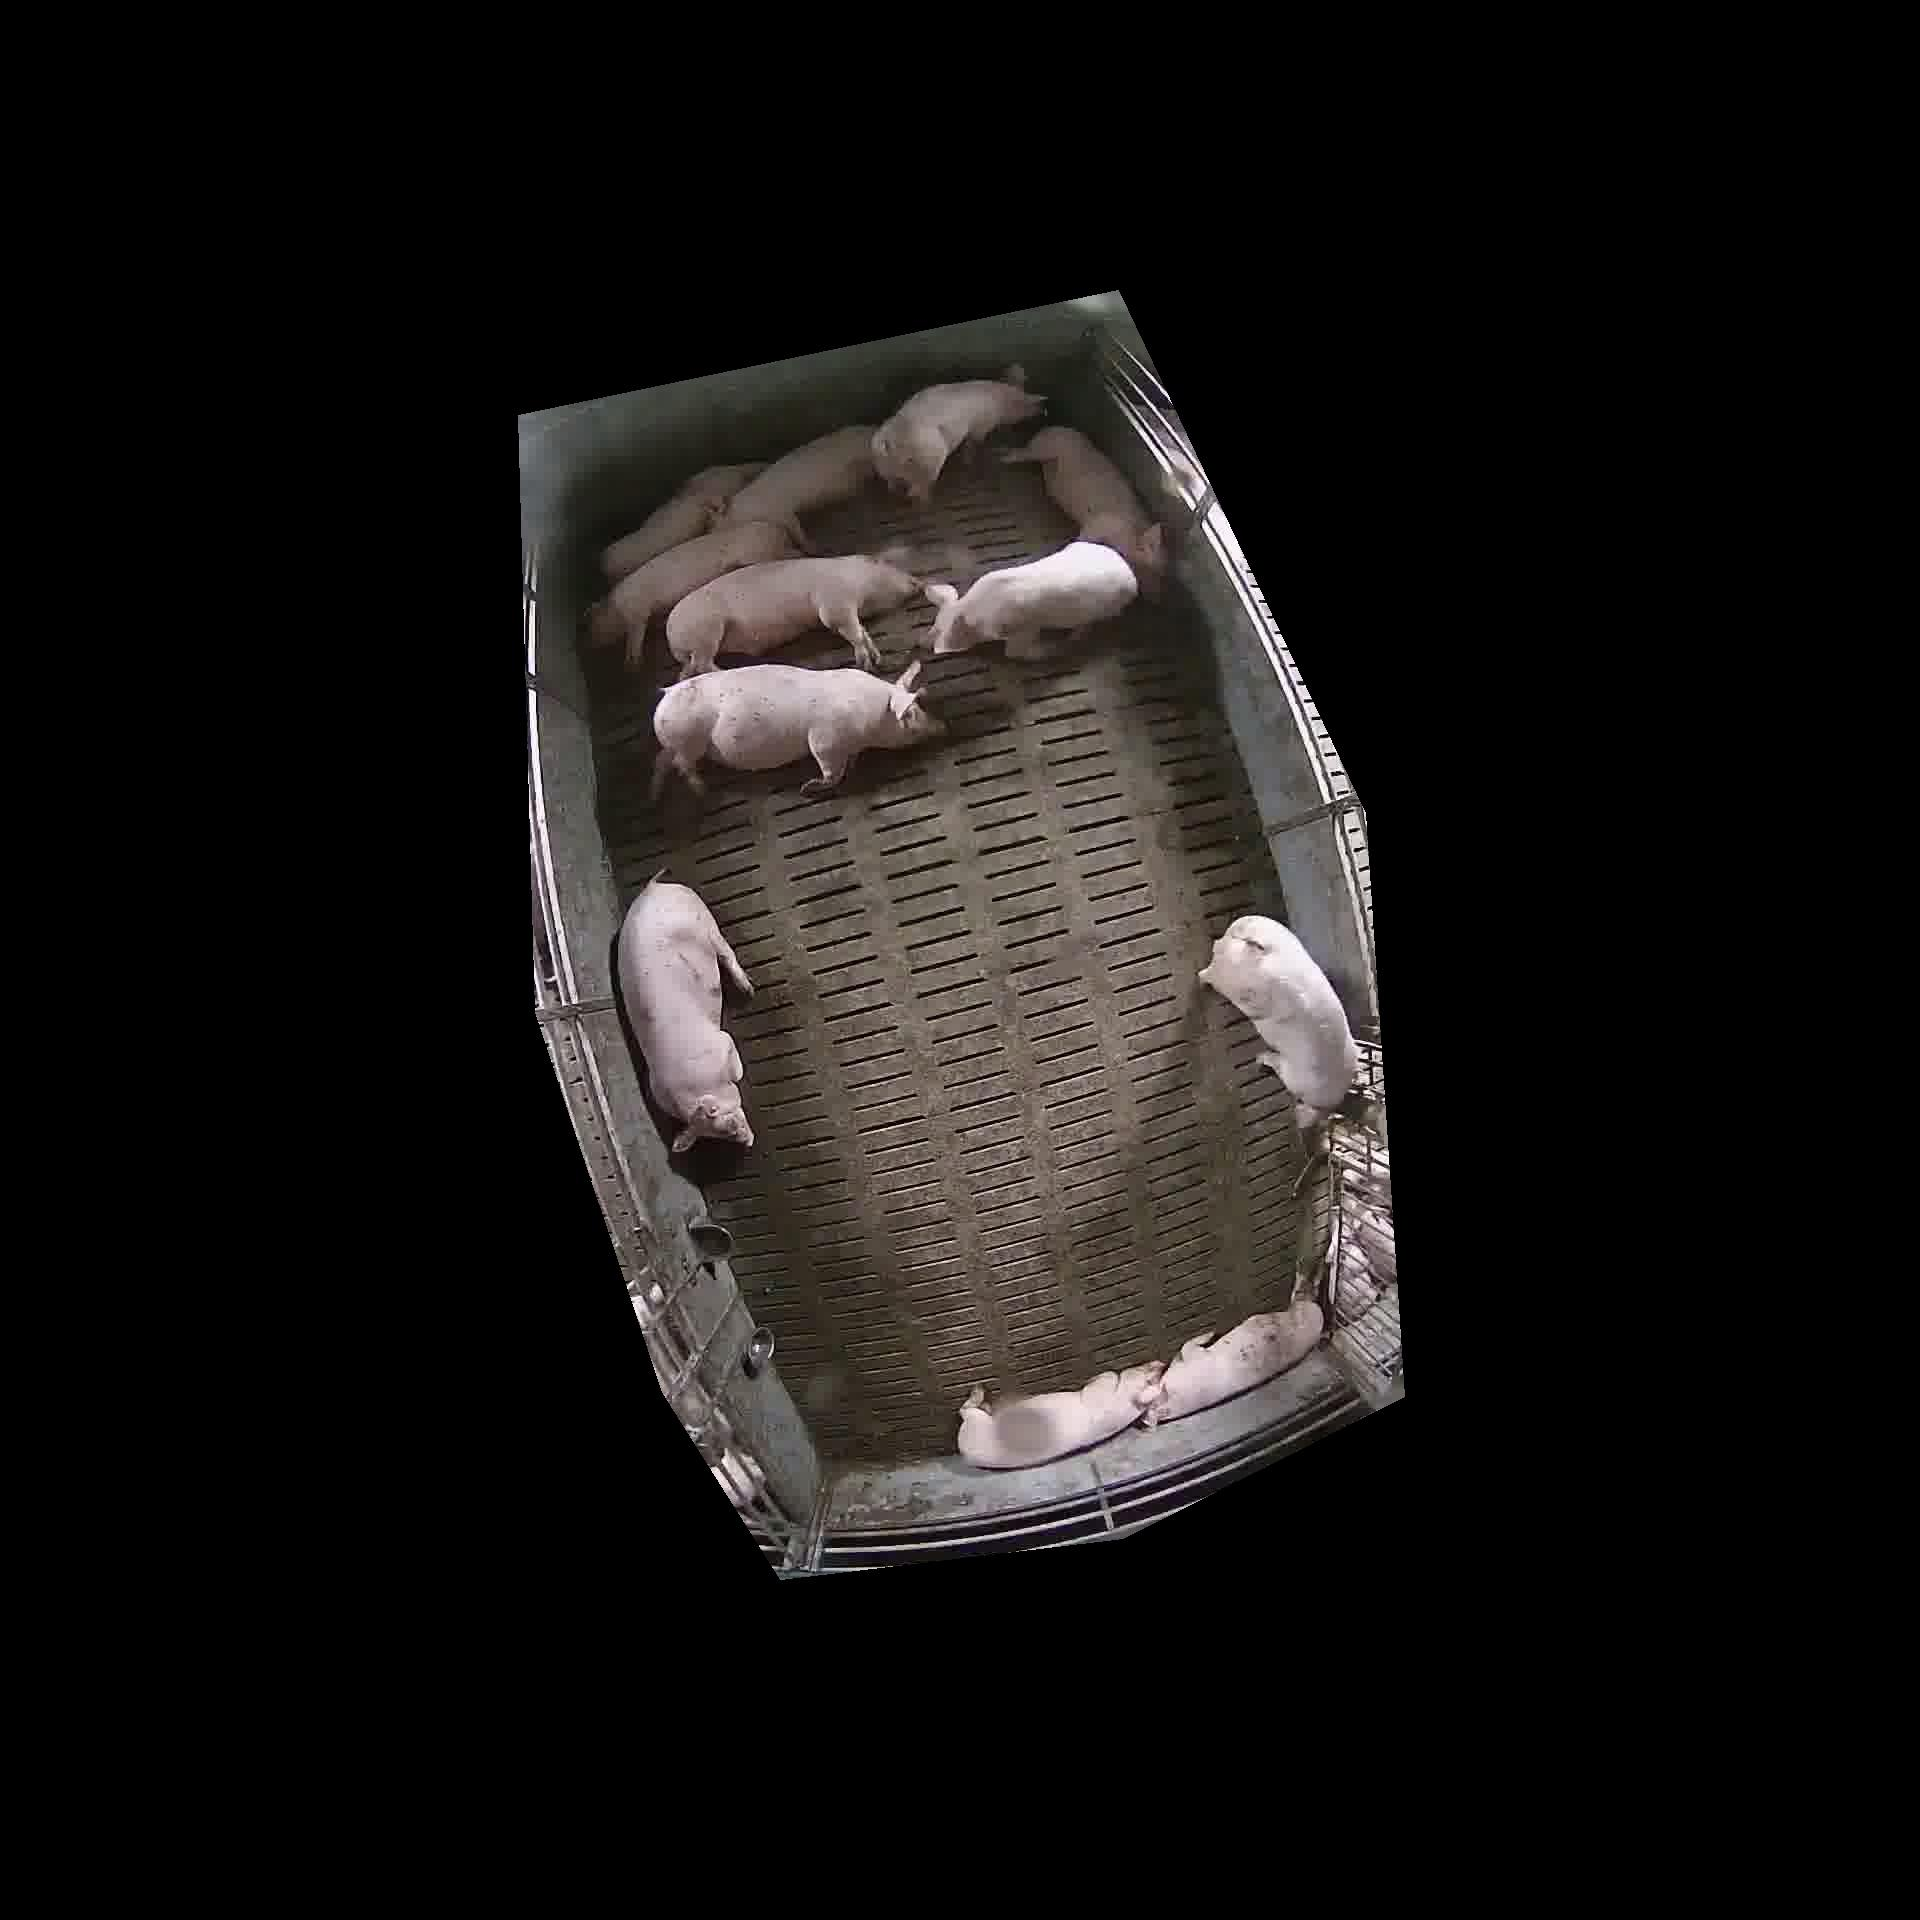pig: (652, 663, 942, 796), (617, 877, 753, 1152), (1199, 914, 1356, 1127), (666, 556, 921, 677), (589, 520, 796, 665), (1004, 425, 1167, 598), (925, 542, 1136, 658), (870, 366, 1044, 506), (956, 1361, 1162, 1468), (1146, 1299, 1322, 1424), (600, 462, 765, 582), (721, 425, 874, 543)
